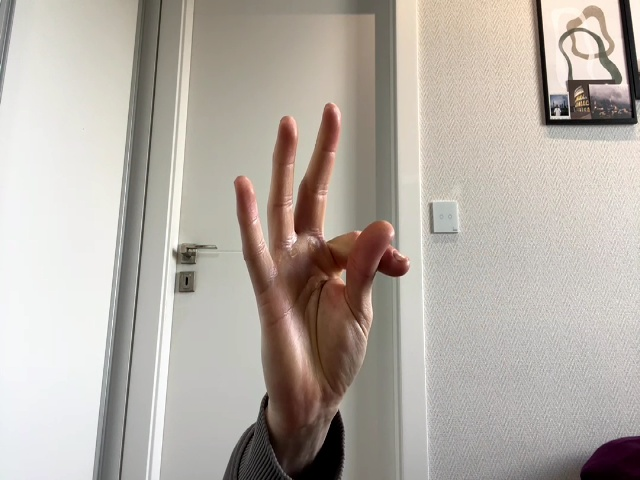T: (234, 102, 410, 384)
